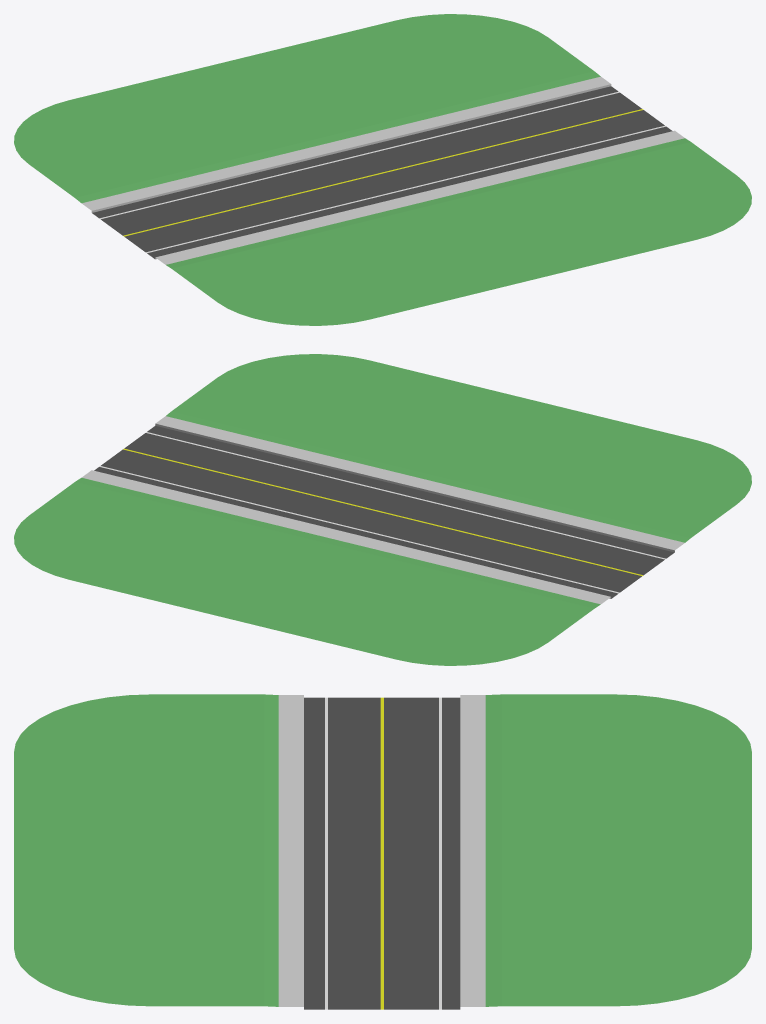
File: EnvRoad.fbx
3 renders of one model, top to bottom at view 1: azimuth 30°, elevation 25°; view 2: azimuth 150°, elevation 25°; view 3: azimuth 270°, elevation 25°, orthographic. The views are drawn at different scales.
Parts seen in each view (by area): view 1: GroundRoad; view 2: GroundRoad; view 3: GroundRoad.
Part boxes in pixels (x1,y1,x2,y2): GroundRoad: [14, 14, 751, 325]; GroundRoad: [14, 354, 751, 665]; GroundRoad: [14, 694, 751, 1009].
Bounding box in the file's own units: 190 × 0.9169 × 190.
